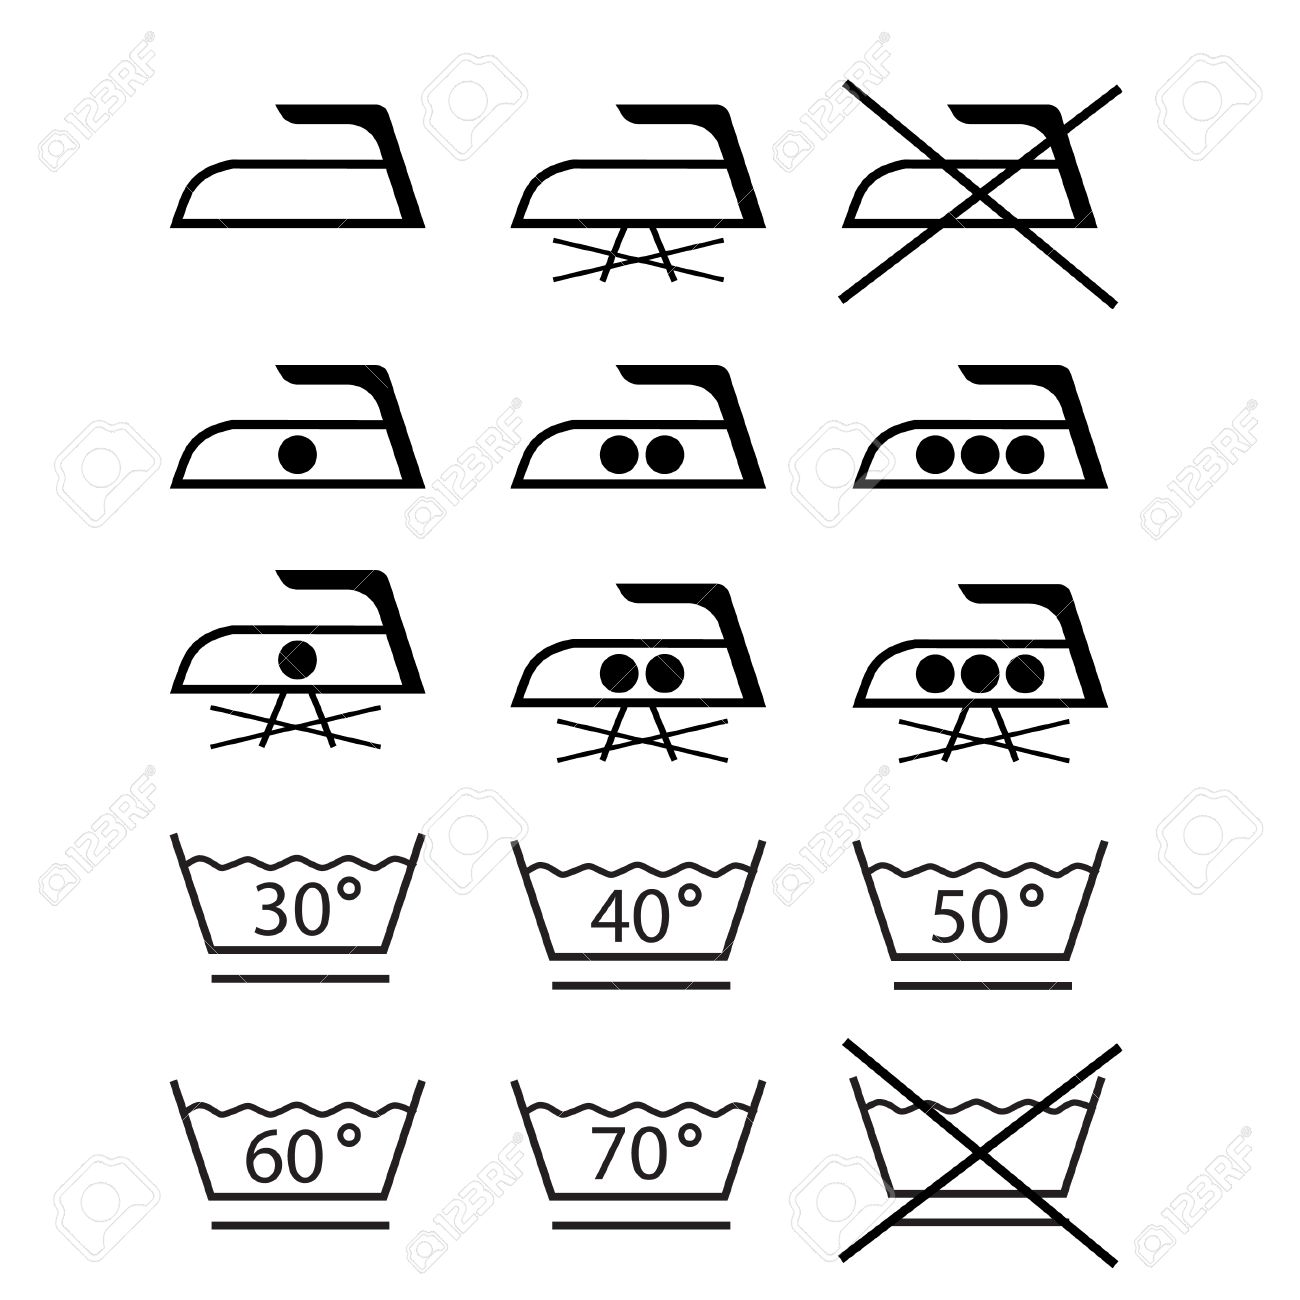do_not_iron: (838, 77, 1125, 310)
do_not_wash: (839, 1035, 1124, 1267)
